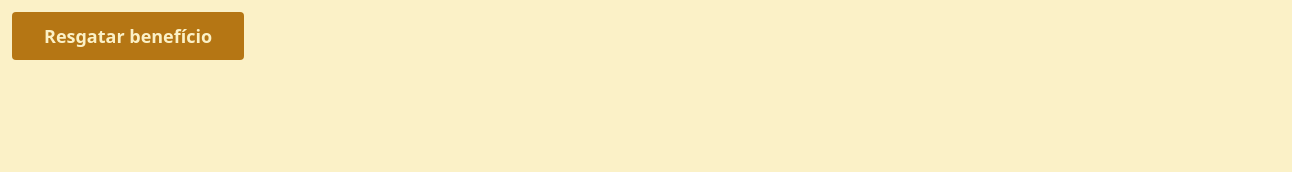
Test case: Resgatar › mostra erro e indisponibilidade
Later steps or results of the test are not shown.
Click the button "Resgatar benefício".
click(128, 36)  # box [12,12,244,60]
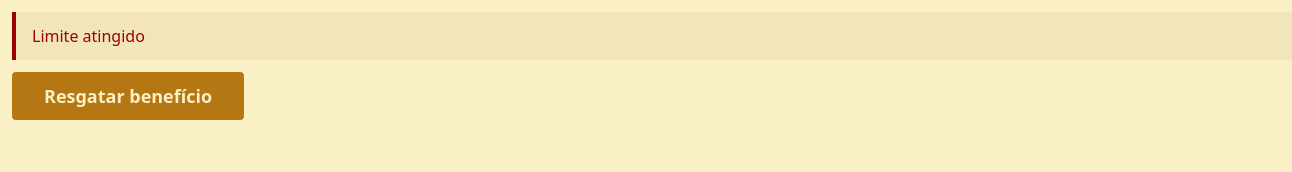
Result: the message reads "Limite atingido" at [32,25,145,47]
